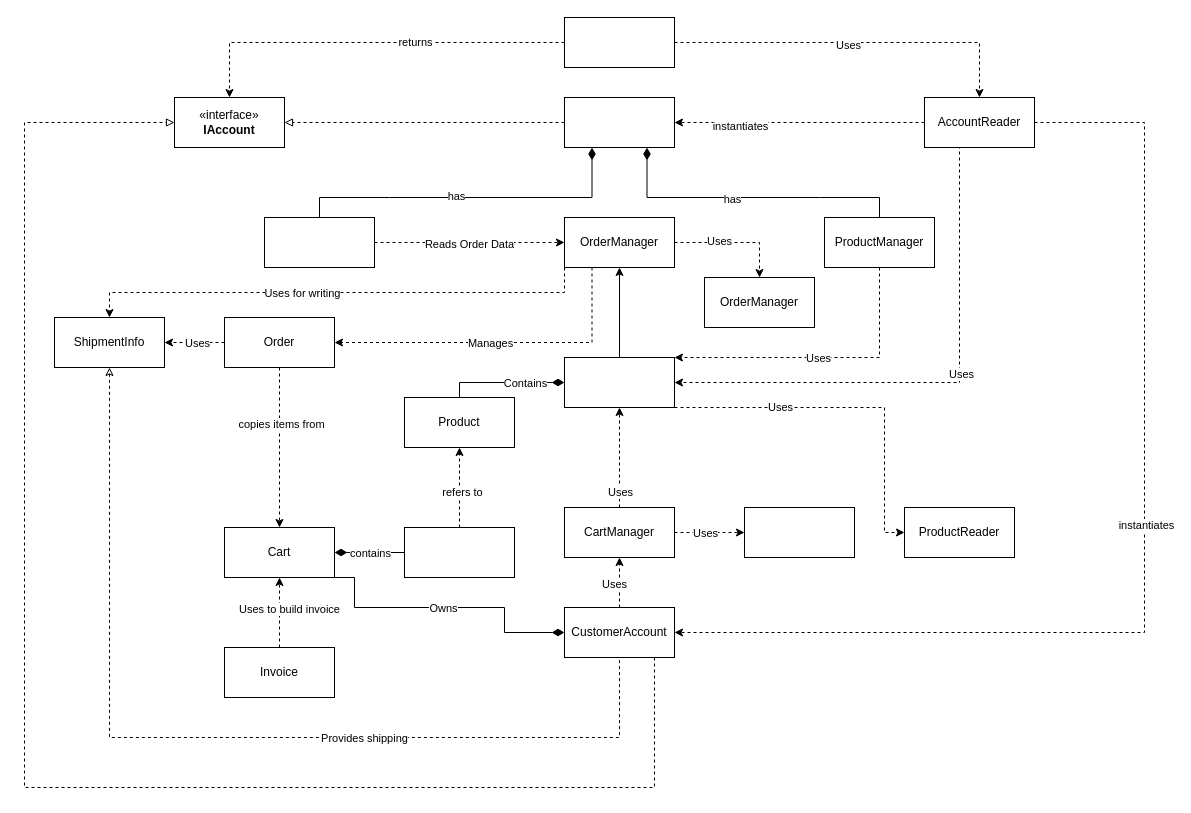
Image size: 1191x813. Some labels were removed from this diagram. The centre of each missing label's shape, as x and y in pixels:
AdminAccount: point 619,122
Authenticator: point 619,42
CartItem: point 459,552
Catalogue: point 619,382
Payment: point 799,532
StatisticsManager: point 319,242
